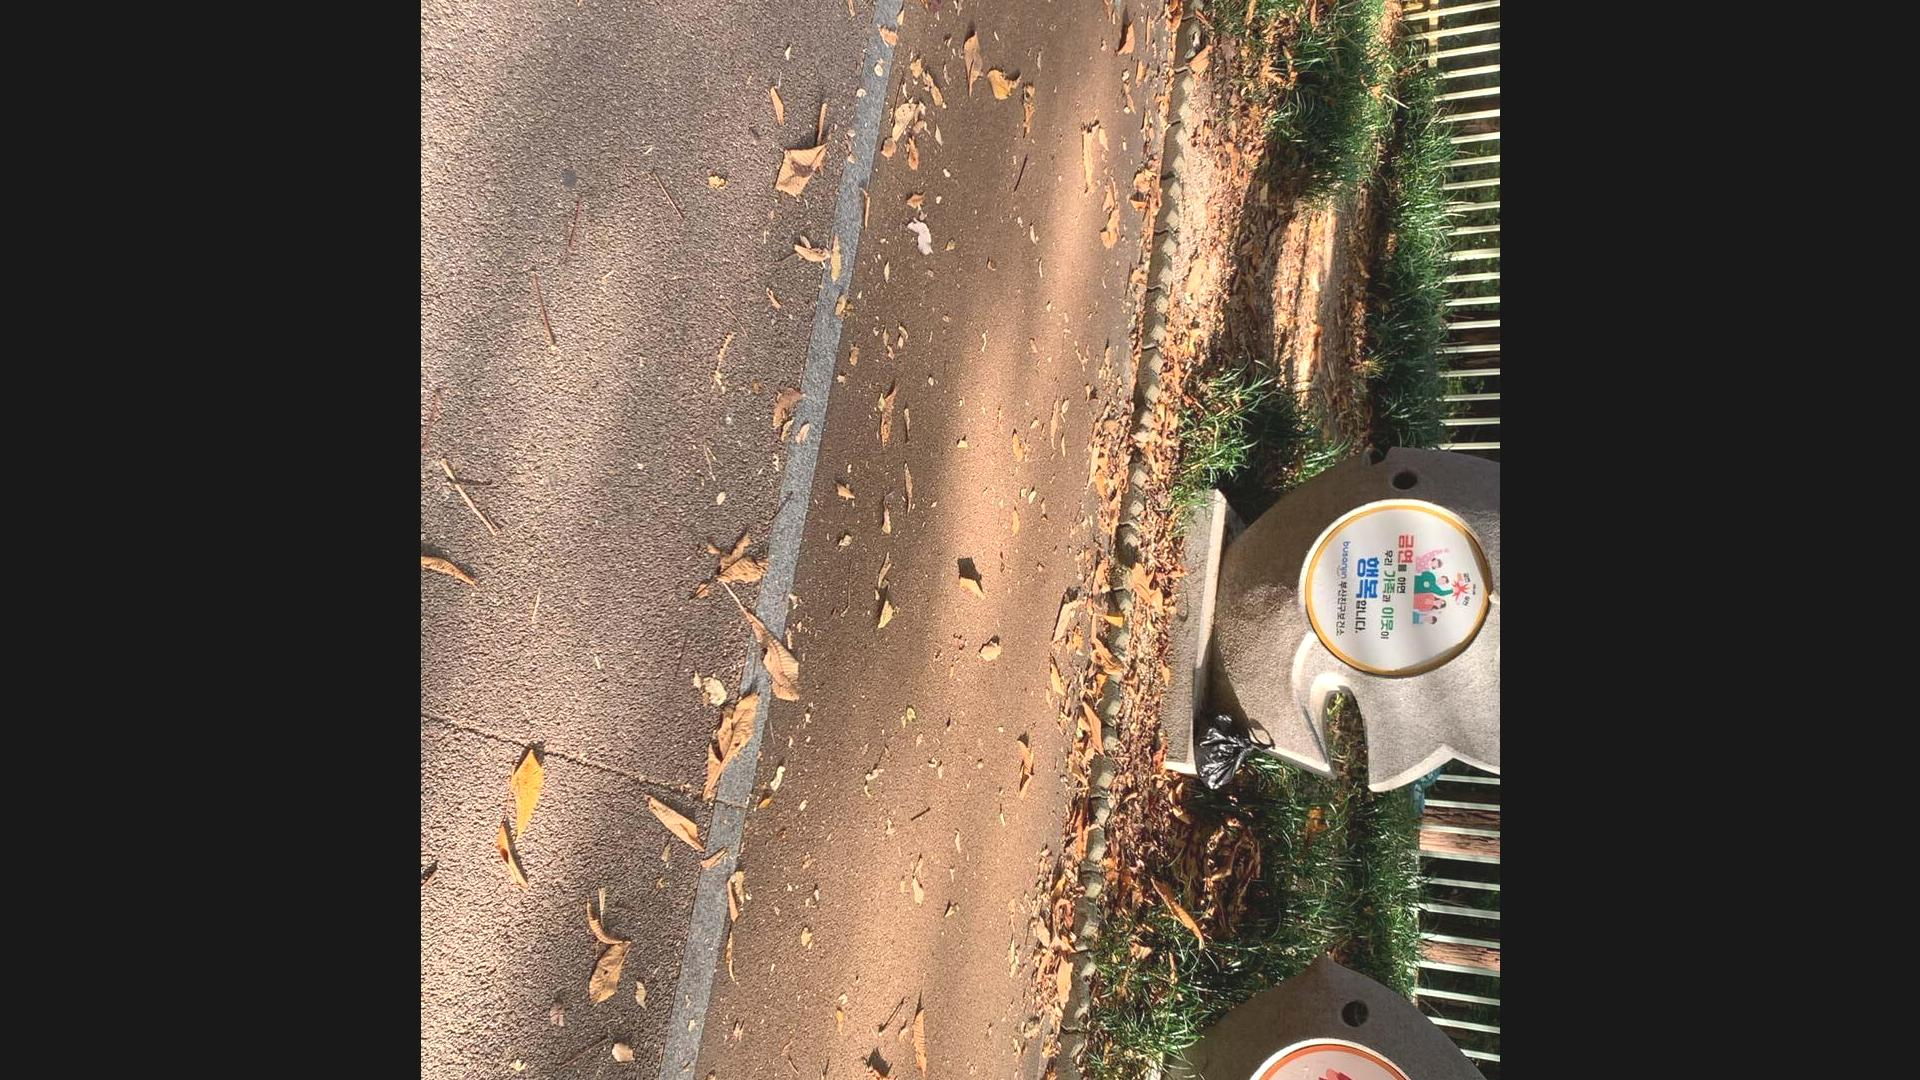black_bag: (1193, 707, 1279, 793)
